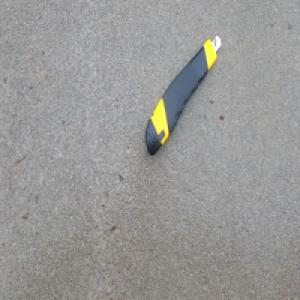Cutter: (143, 33, 222, 156)
